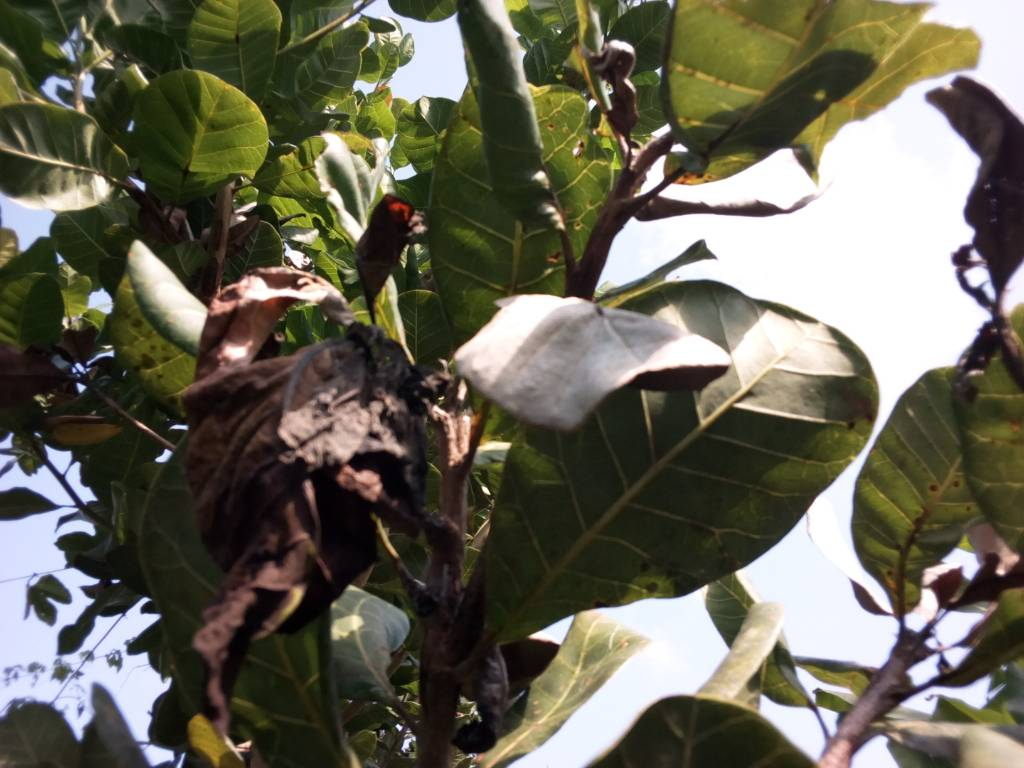Dessèchement des bourgeons: (208, 301, 467, 554)
